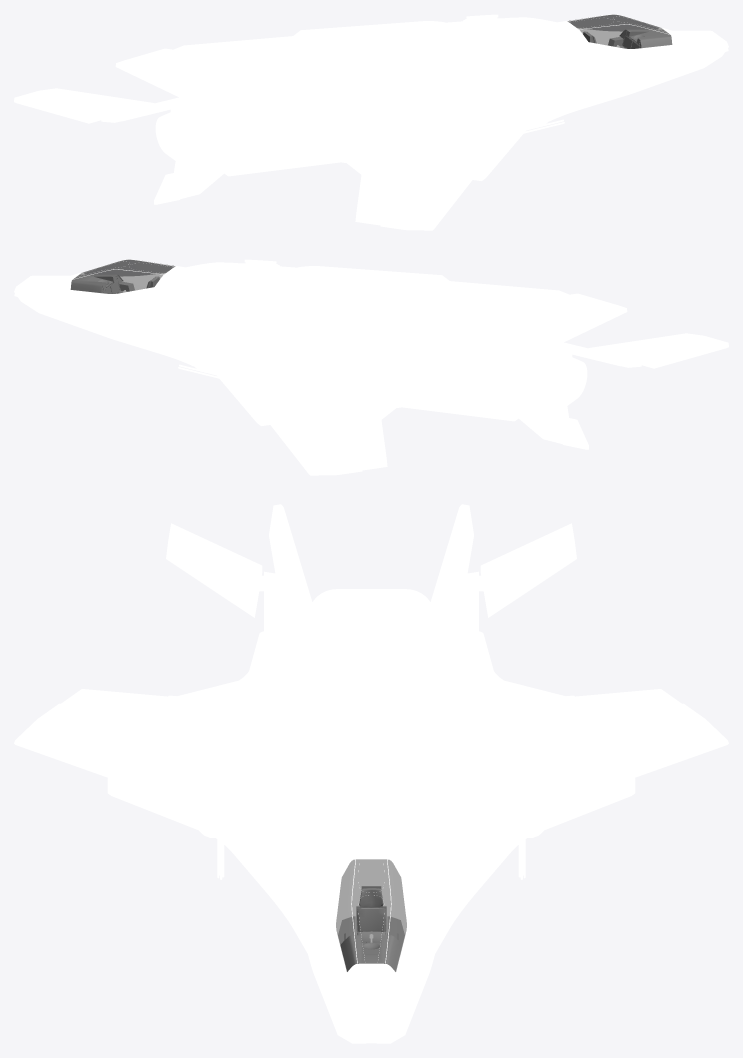
The model's file is Kaito MCS-71 revised.glb.
3 renders of one model, top to bottom at view 1: azimuth 30°, elevation 25°; view 2: azimuth 150°, elevation 25°; view 3: azimuth 270°, elevation 25°, orthographic. The views are drawn at different scales.
Parts seen in each view (by area): view 1: hull; view 2: hull; view 3: hull.
Boxes of the visible parts, <box> form: hull: <box>14,14,728,230</box>; hull: <box>14,259,728,475</box>; hull: <box>14,504,728,1043</box>.
Bounding box in the file's own units: 17.19 × 2.93 × 11.69.
Materials: 3 (1 with a texture image).
